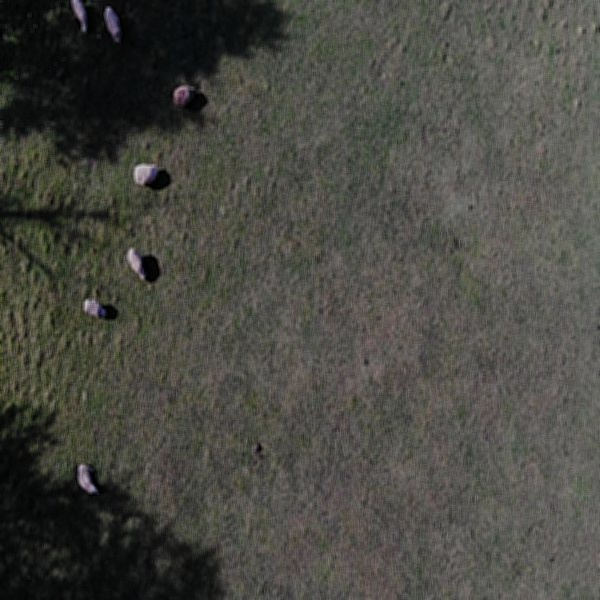sheep: (75, 460, 103, 501), (101, 3, 128, 45), (126, 243, 150, 289), (131, 159, 161, 191), (171, 80, 200, 113), (80, 294, 109, 325), (72, 0, 94, 40)
